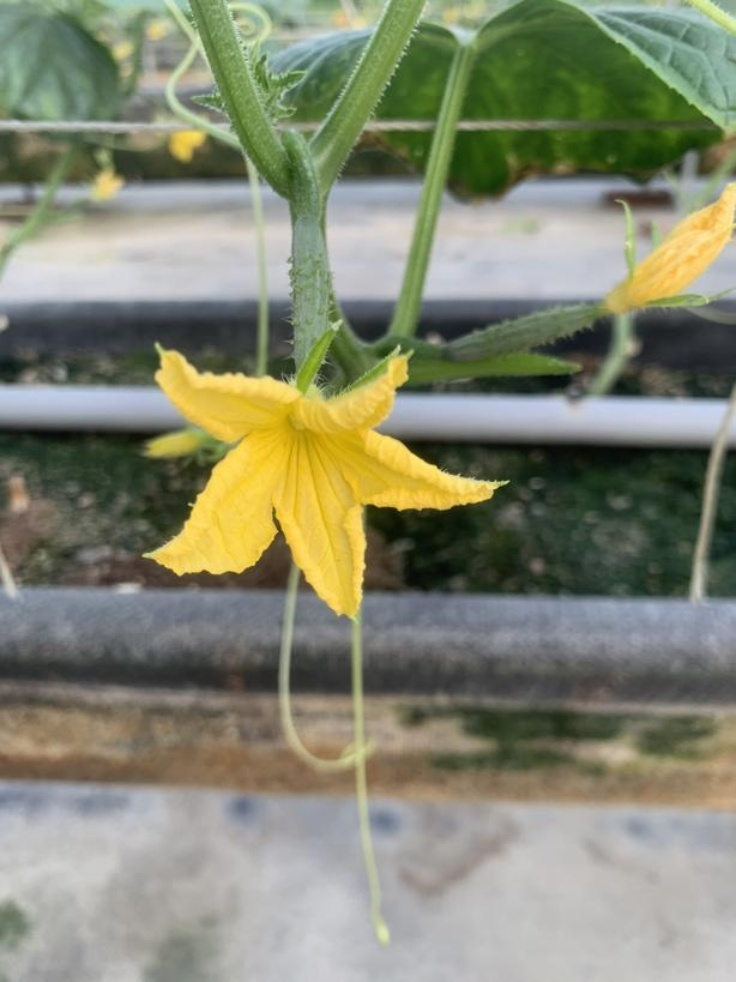bear: (436, 192, 735, 374)
flowering: (117, 201, 490, 604)
